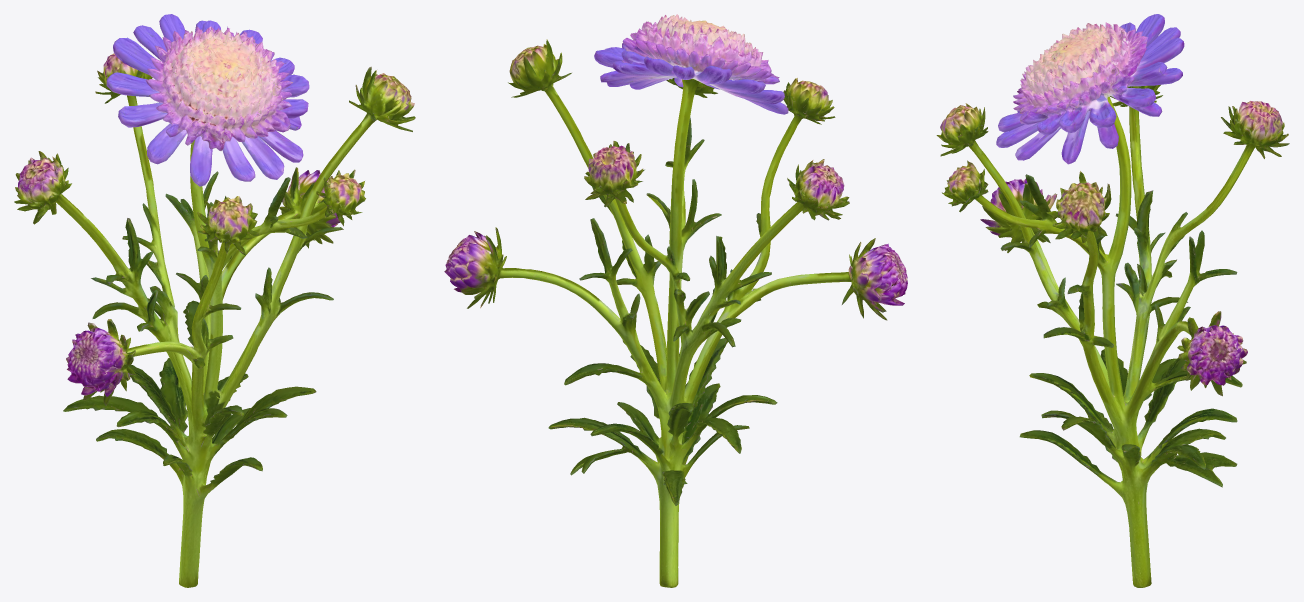
Rendered from flower-optimized.glb.
The picture shows the model from 3 angles, left to right: view 1: azimuth 30°, elevation 25°; view 2: azimuth 150°, elevation 25°; view 3: azimuth 270°, elevation 25°; orthographic projection. The views are drawn at different scales.
Visible parts, largest first — view 1: Mesh_0; view 2: Mesh_0; view 3: Mesh_0.
Boxes of the visible parts, left/top/right/bottom form: Mesh_0: left=14, top=14, right=415, bottom=587; Mesh_0: left=444, top=14, right=907, bottom=587; Mesh_0: left=936, top=14, right=1289, bottom=587.
Bounding box in the file's own units: 1.31 × 1.91 × 1.11.
Materials: 1 (1 with a texture image).
